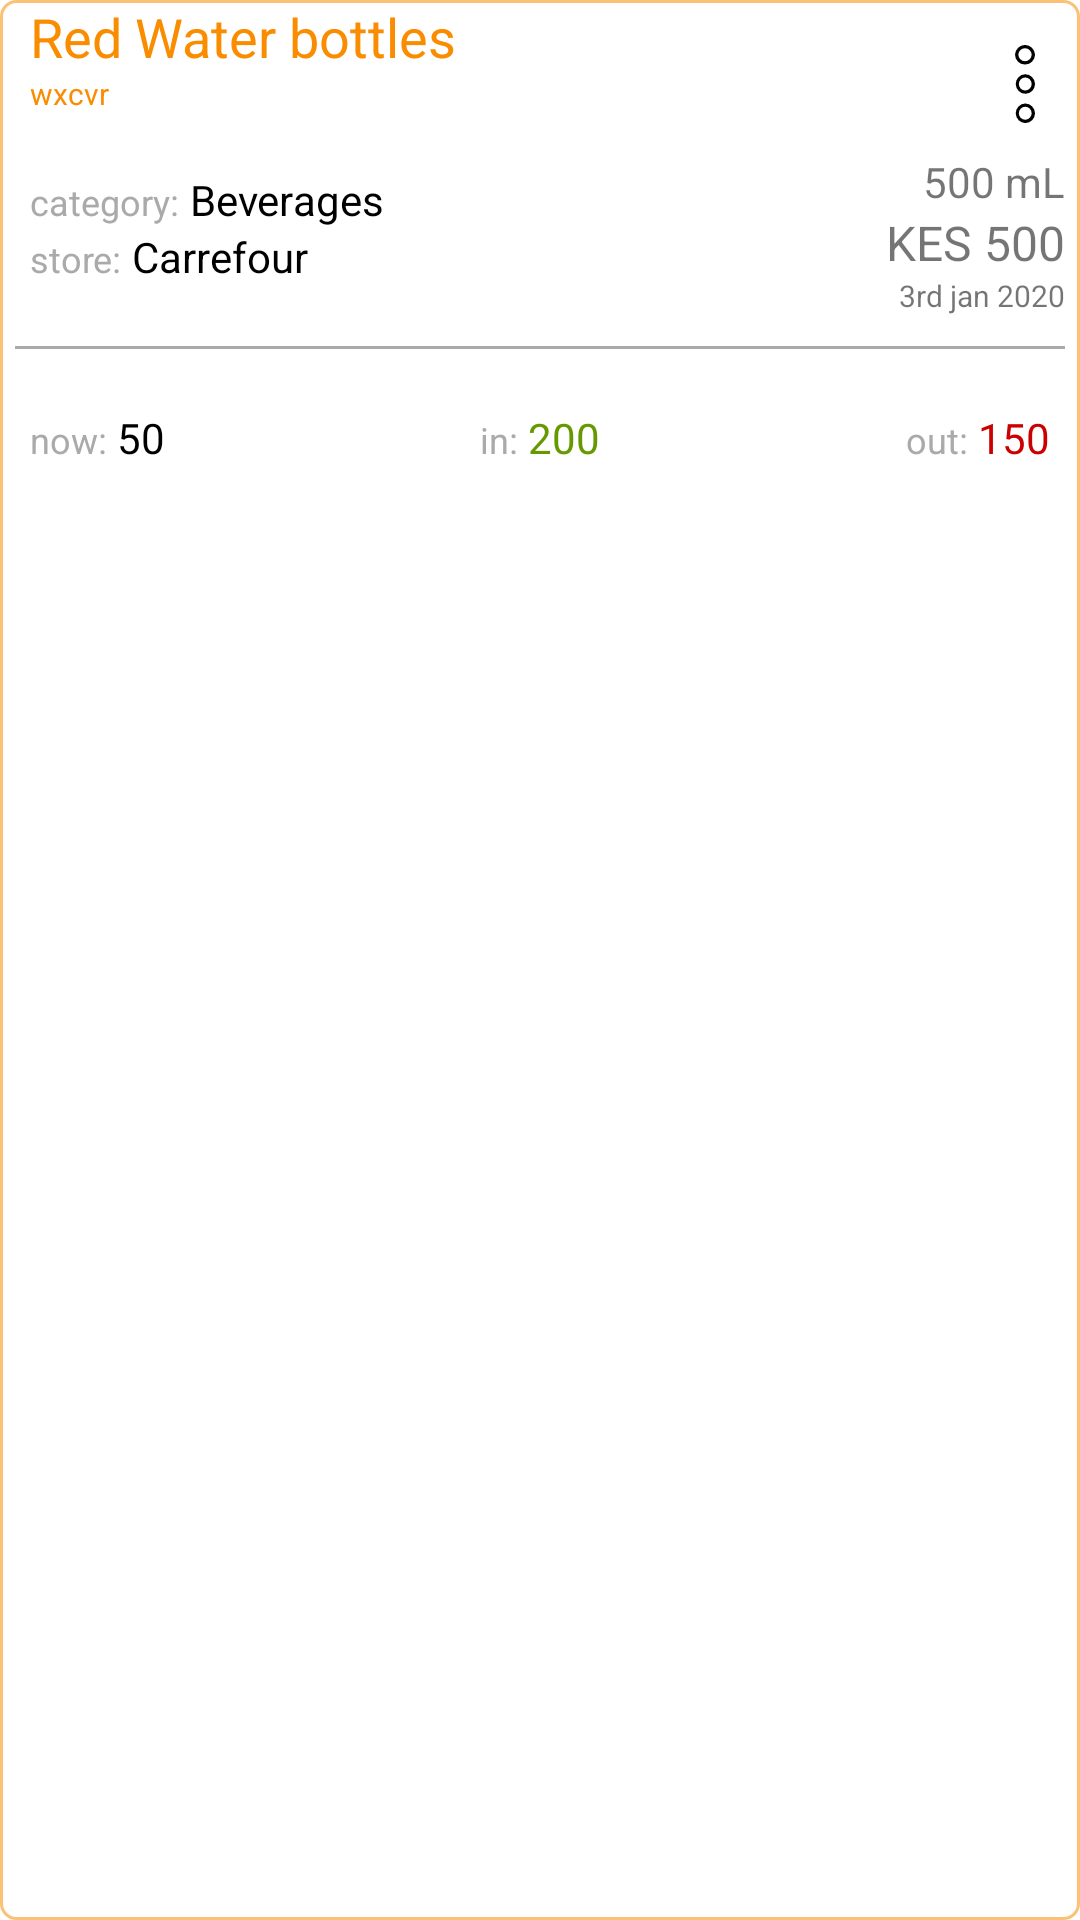

Screen size 1080*1920. Icon name, then its center in pixels as (x=x, y=y):
menu: (x=1025, y=84)
